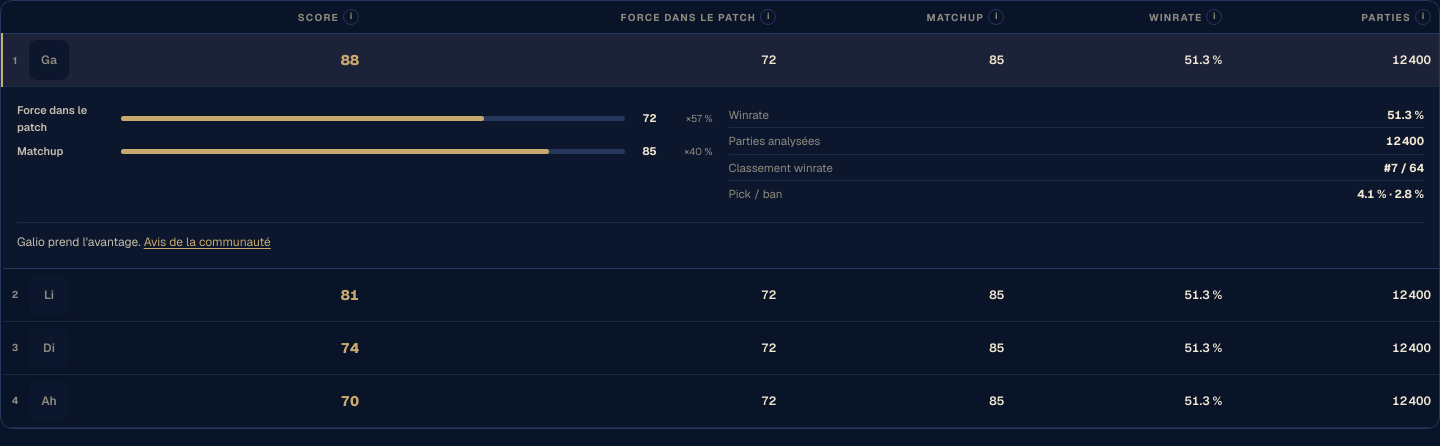
Test: ComparisonTable › explains each column on demand
This screenshot has width=1440, height=446.
What coordinates should you click on to do the following:
click the button named "Qu'est-ce que Matchup ?"
I would click on:
 (996, 17)
Its box is [988,9,1004,25].
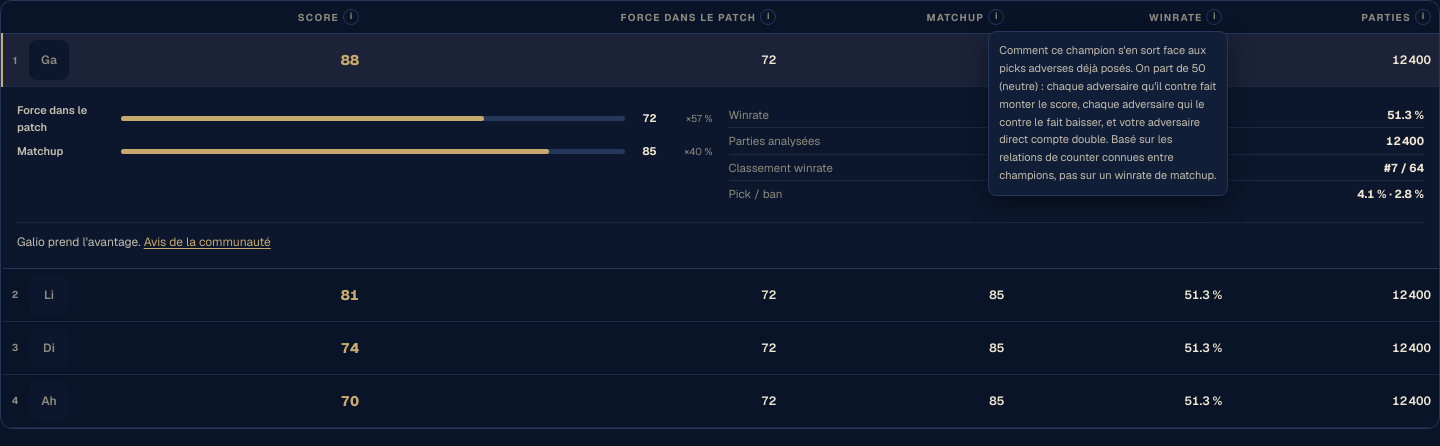
Now the tooltip shows "votre adversaire direct compte double", box [999,43,1216,182]
